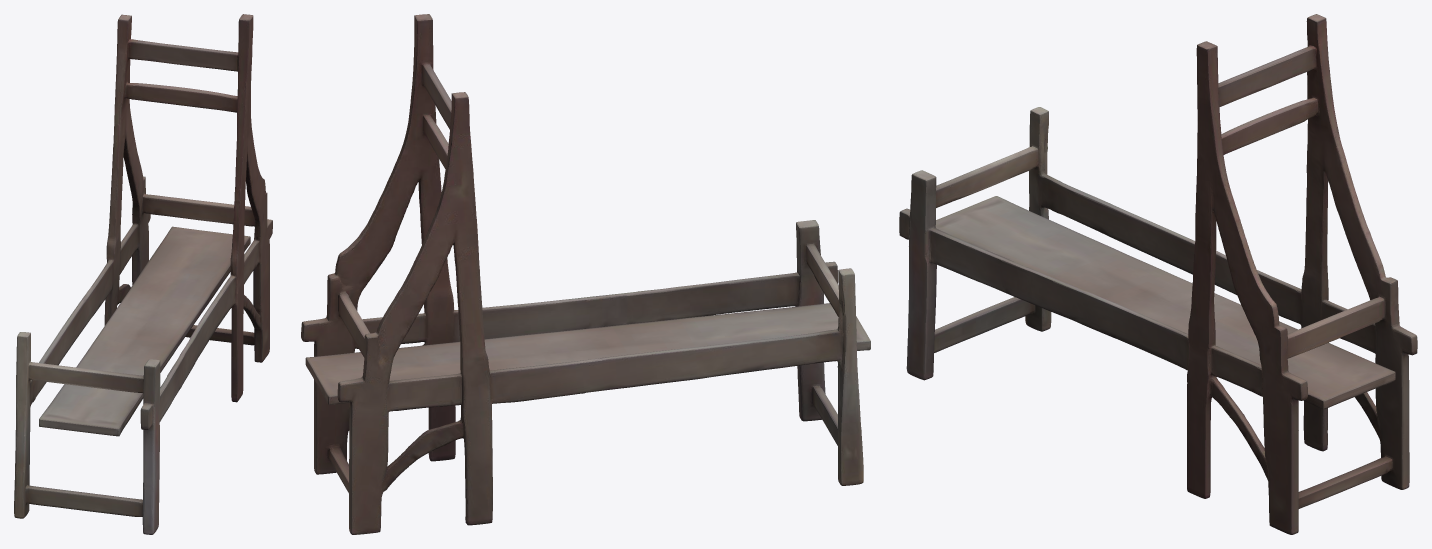
Rendered from wooden_chair_partially_visible_in_foreground_right_000.glb.
3 views of the same model, side by side, from view 1: azimuth 30°, elevation 25°; view 2: azimuth 150°, elevation 25°; view 3: azimuth 270°, elevation 25° (orthographic). The views are drawn at different scales.
Visible parts, largest first — view 1: phase2_final_wooden_chair_partially_visible_in_foreground_ri; view 2: phase2_final_wooden_chair_partially_visible_in_foreground_ri; view 3: phase2_final_wooden_chair_partially_visible_in_foreground_ri.
Boxes of the visible parts, box(x1,y1,x2,y2) form: phase2_final_wooden_chair_partially_visible_in_foreground_ri: box(14, 14, 272, 534); phase2_final_wooden_chair_partially_visible_in_foreground_ri: box(301, 14, 870, 534); phase2_final_wooden_chair_partially_visible_in_foreground_ri: box(899, 14, 1417, 534).
Bounding box in the file's own units: 0.4109 × 0.3999 × 0.4112.
1 material, 1 textured.
